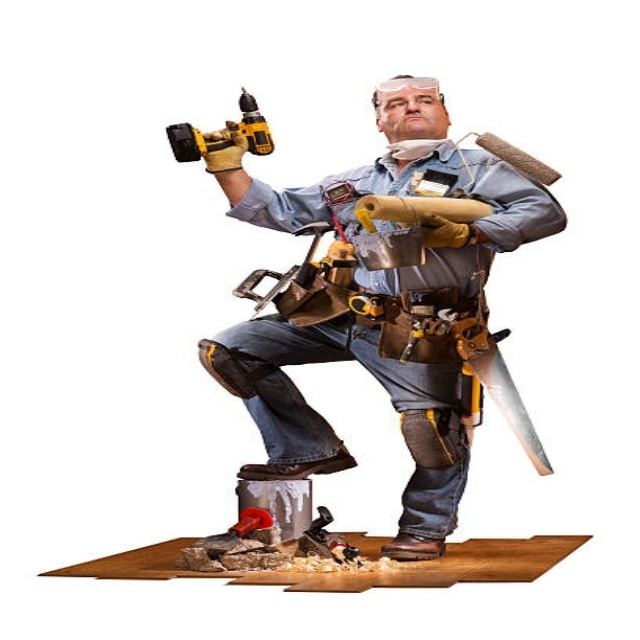Guantes: (199, 124, 249, 174), (418, 212, 474, 248)
Sin_gafas: (380, 94, 441, 111)
Sin_mascara: (395, 111, 438, 127)
